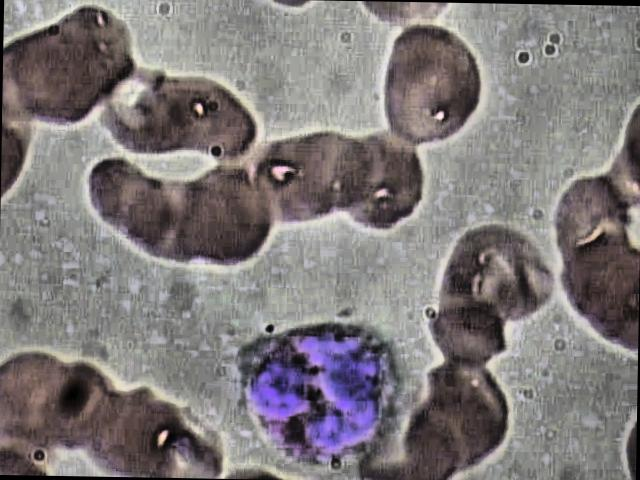RBC: (368, 22, 498, 150), (431, 218, 562, 339), (324, 120, 431, 235), (289, 127, 378, 233), (84, 156, 176, 246)
WBC: (237, 326, 411, 472)
